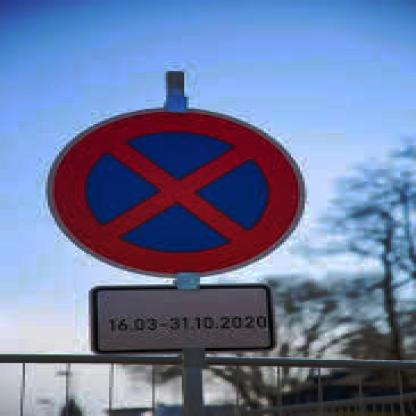No stopping: (50, 104, 308, 278)
